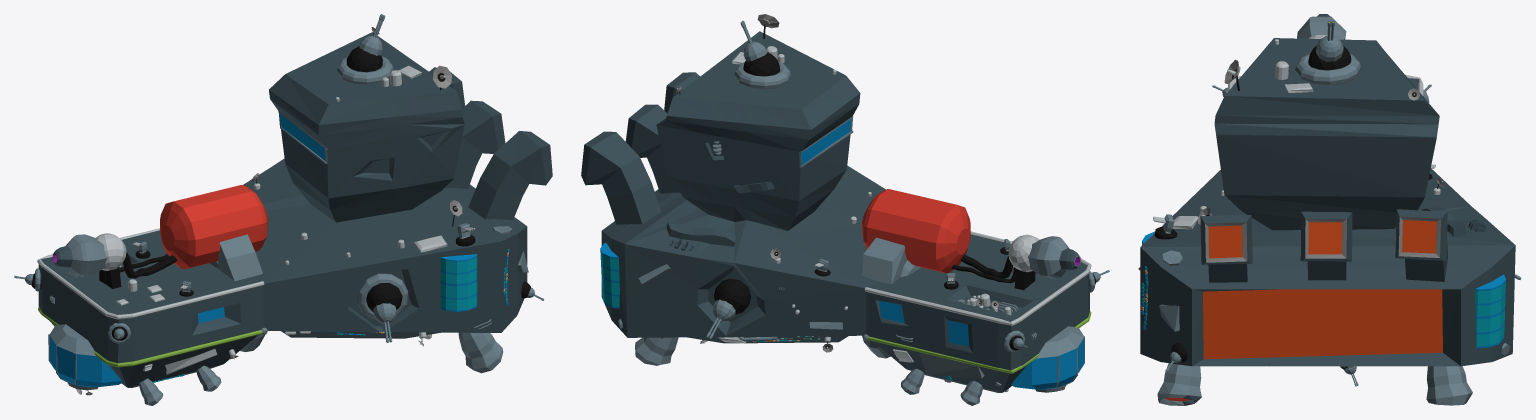
File: spaceship.gltf
The picture shows the model from 3 angles, left to right: view 1: azimuth 30°, elevation 25°; view 2: azimuth 150°, elevation 25°; view 3: azimuth 270°, elevation 25°; orthographic projection. The views are drawn at different scales.
Parts seen in each view (by area): view 1: node_MeshObject-737224704-PolyPaper5, node_MeshObject1841505280-PolyPaper17, node_MeshObject-1309303808-PolyPaper23, node_MeshObject-1881382912-PolyPaper4; view 2: node_MeshObject-737224704-PolyPaper5, node_MeshObject1841505280-PolyPaper17, node_MeshObject-1309303808-PolyPaper23, node_MeshObject-1881382912-PolyPaper4; view 3: node_MeshObject-737224704-PolyPaper5, node_MeshObject1841505280-PolyPaper17, node_MeshObject-1309303808-PolyPaper23, node_MeshObject-1881382912-PolyPaper4.
Boxes of the visible parts, <box> form: node_MeshObject-737224704-PolyPaper5: <box>38,32,527,387</box>; node_MeshObject1841505280-PolyPaper17: <box>14,14,552,405</box>; node_MeshObject-1309303808-PolyPaper23: <box>34,27,451,371</box>; node_MeshObject-1881382912-PolyPaper4: <box>76,97,544,395</box>; node_MeshObject-737224704-PolyPaper5: <box>601,31,1089,392</box>; node_MeshObject1841505280-PolyPaper17: <box>581,20,1109,405</box>; node_MeshObject-1309303808-PolyPaper23: <box>618,14,1091,392</box>; node_MeshObject-1881382912-PolyPaper4: <box>700,69,1095,390</box>; node_MeshObject-737224704-PolyPaper5: <box>1140,38,1515,367</box>; node_MeshObject1841505280-PolyPaper17: <box>1138,14,1521,405</box>; node_MeshObject-1309303808-PolyPaper23: <box>1224,34,1509,355</box>; node_MeshObject-1881382912-PolyPaper4: <box>1165,39,1444,386</box>.
Bounding box in the file's own units: 4.38 × 2.95 × 2.79.
